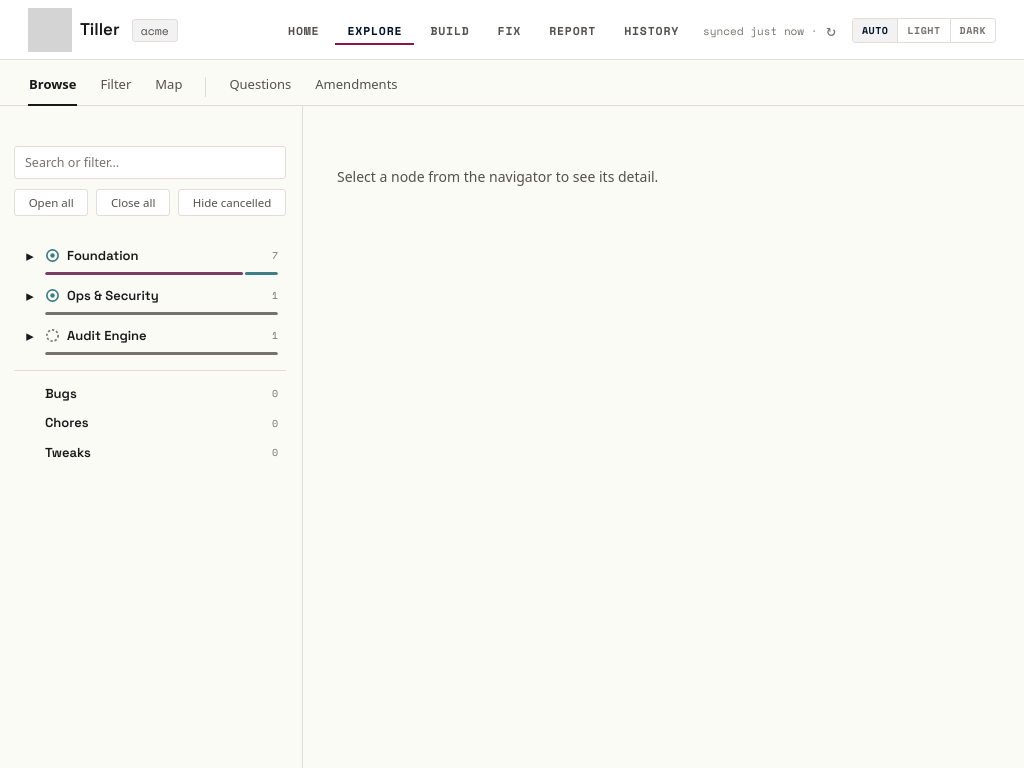
Navigator: expanding an epic shows one-line feature rows › reveals every feature title, in served order, after the chevron toggles open
The width and height of the screenshot is (1024, 768).
Expected: the link "Foundation" is shown, [67,247,138,264]
Click the button named "Expand Foundation" at (30, 256), box [22,245,38,267]
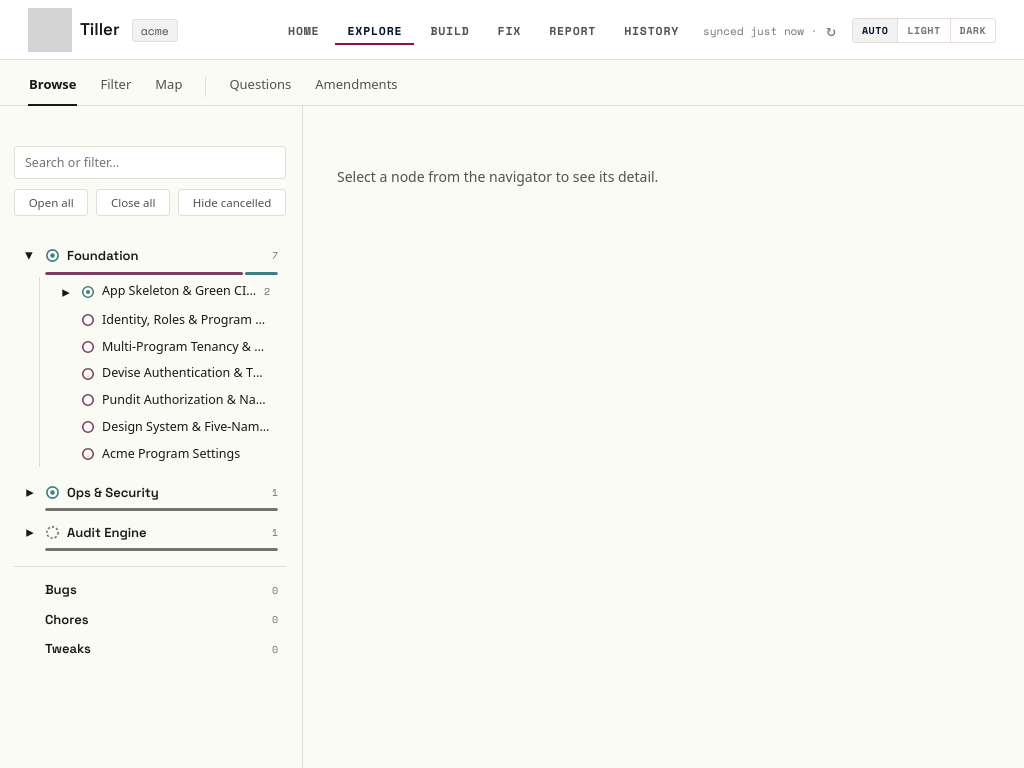
Now the link "Identity, Roles & Program Model" is shown, box [102,311,270,330]
Note: Collapsing again hides the rows without losing the epic row itself.
Click the button named "Collapse Foundation" at (30, 256), box [22,245,38,267]
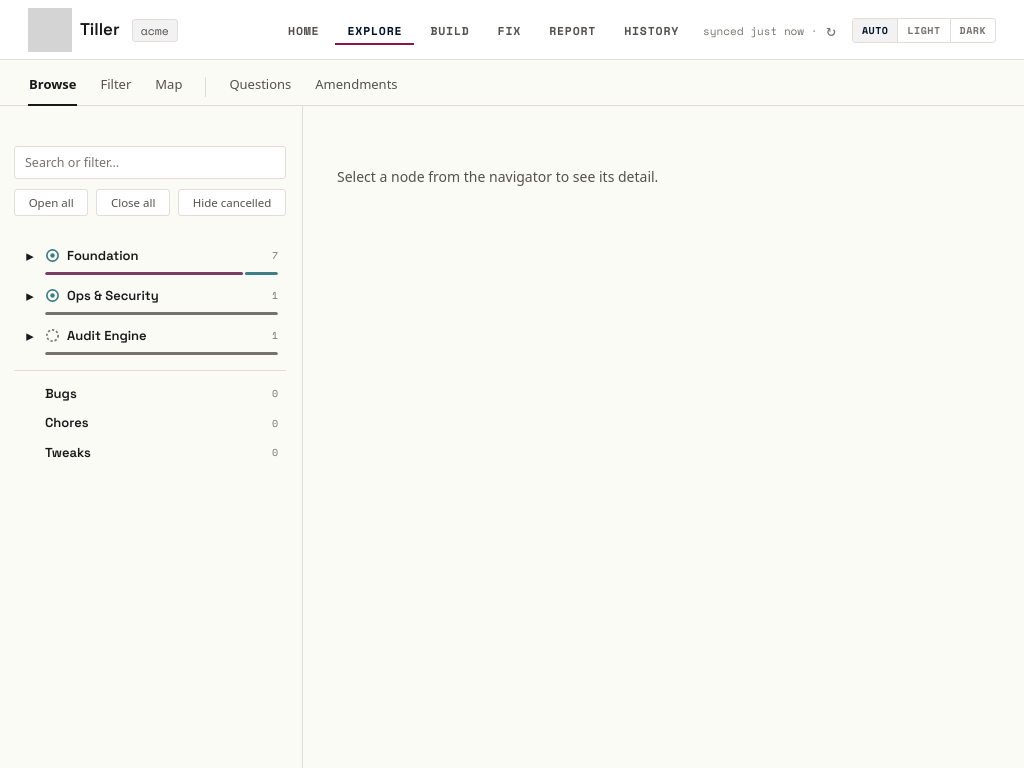
Expected: the link "Foundation" is shown, [67,247,138,264]
Now the link "App Skeleton & Green CI Boot" is gone
